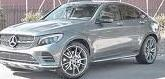Crossovers: (0, 2, 159, 78)
